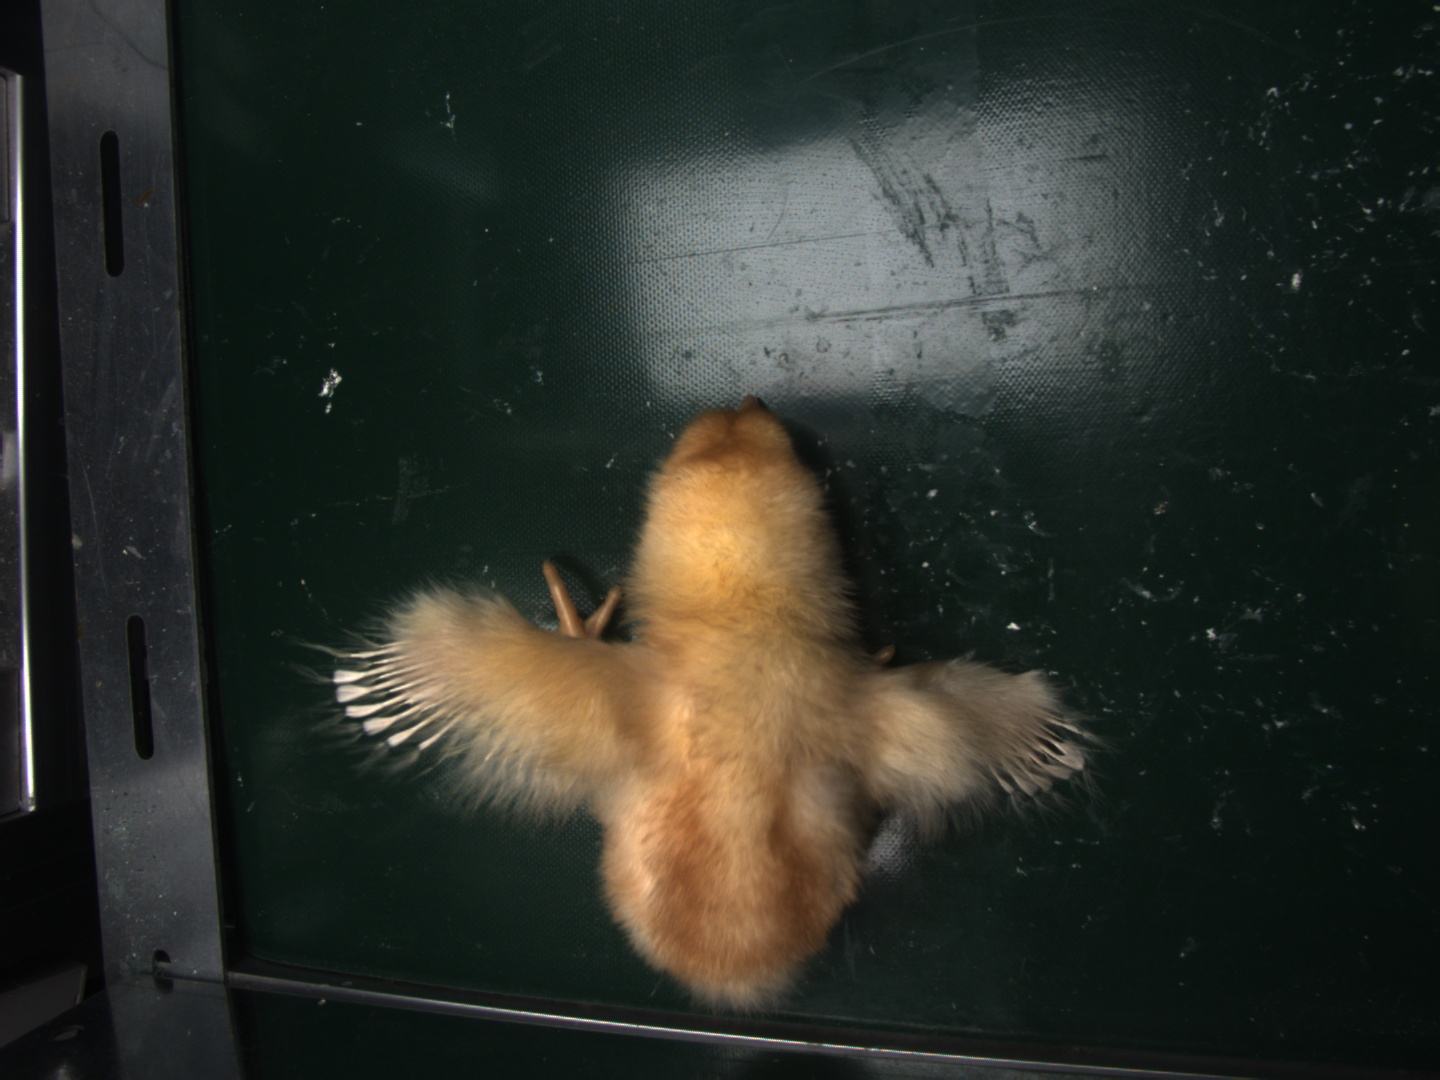female: (333, 640, 458, 749)
